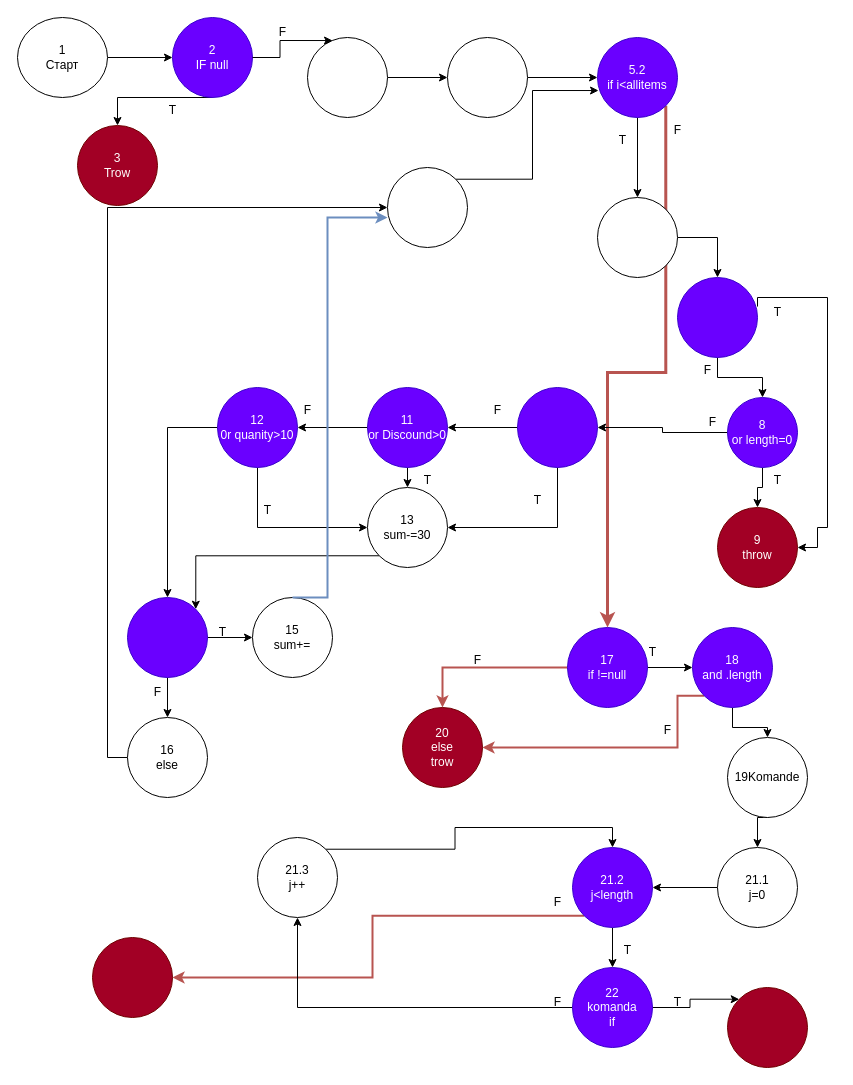
Some shapes in this 853 by 1085 pixel diagram are drawn without their labels. Here are the shapes that lost their labels. From the top down, the centre of each, then its label:
At [347,77]: "4 sum=0".
At [487,77]: "5.1 i=0".
At [427,207]: "5.3 i++".
At [637,237]: "6 item=all intem".
At [717,317]: "7 if null".
At [557,427]: "10 if item getprice".
At [167,637]: "14 if discound>0".
At [132,977]: "24 Return sum".
At [767,1027]: "23 Trow".
